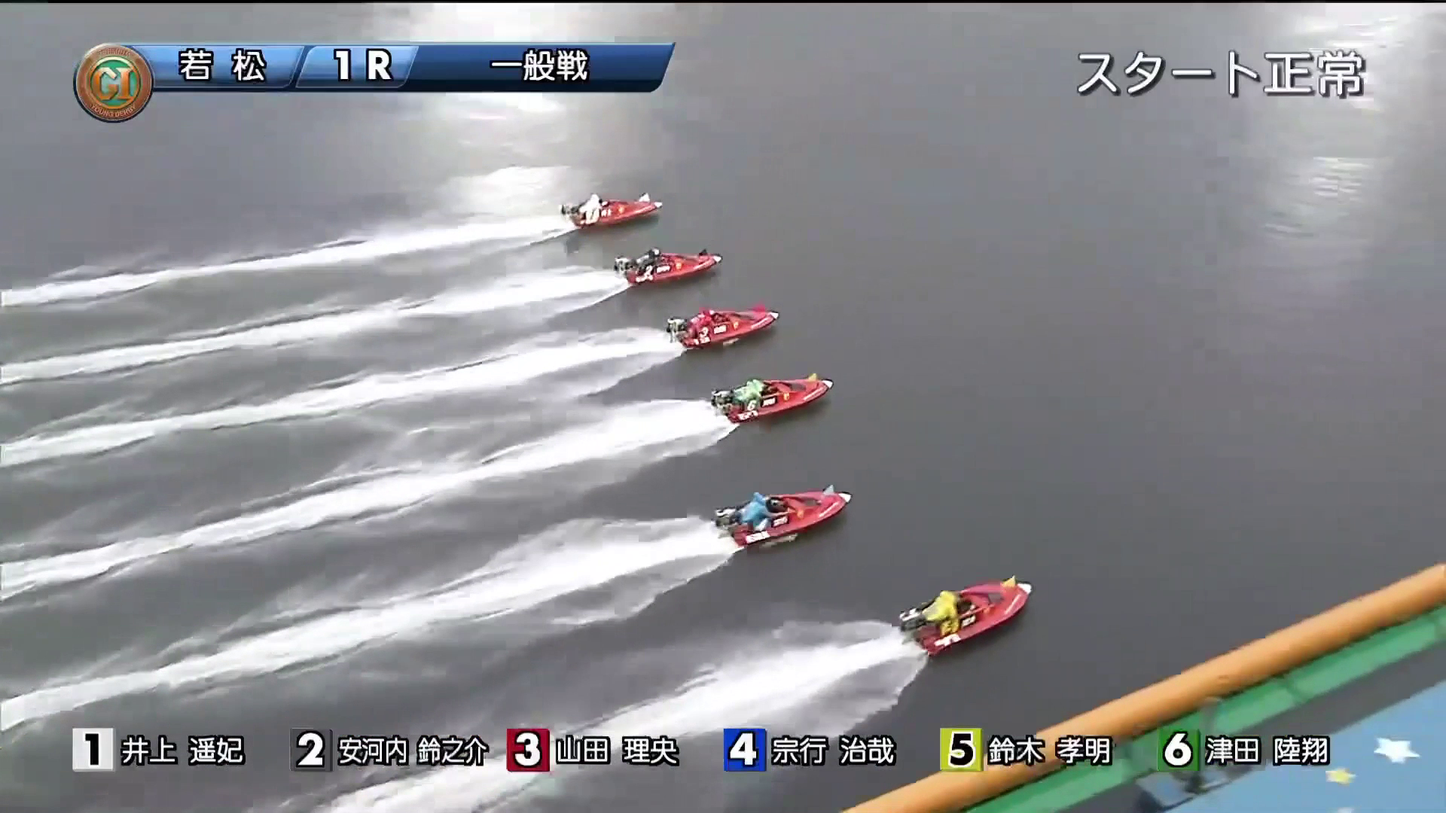１号艇: (574, 191, 650, 230)
２号艇: (609, 242, 712, 280)
３号艇: (661, 303, 787, 344)
４号艇: (713, 374, 818, 418)
５号艇: (710, 489, 830, 544)
６号艇: (872, 586, 1030, 643)
